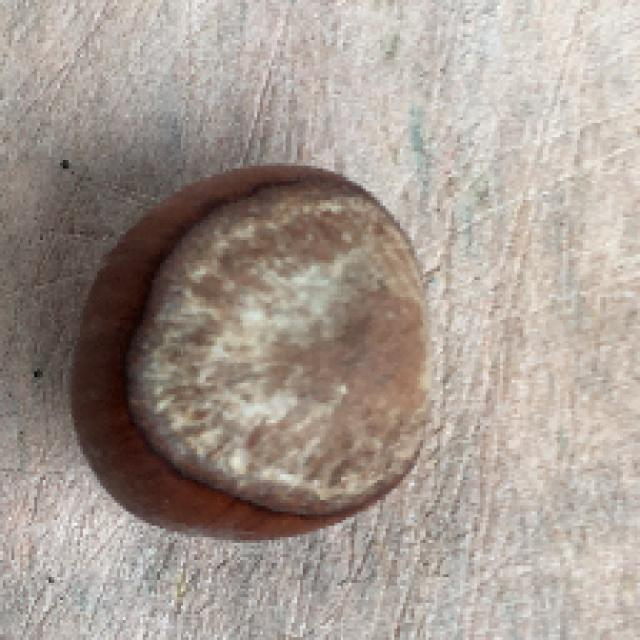qualityHazelnut: (68, 159, 450, 547)
